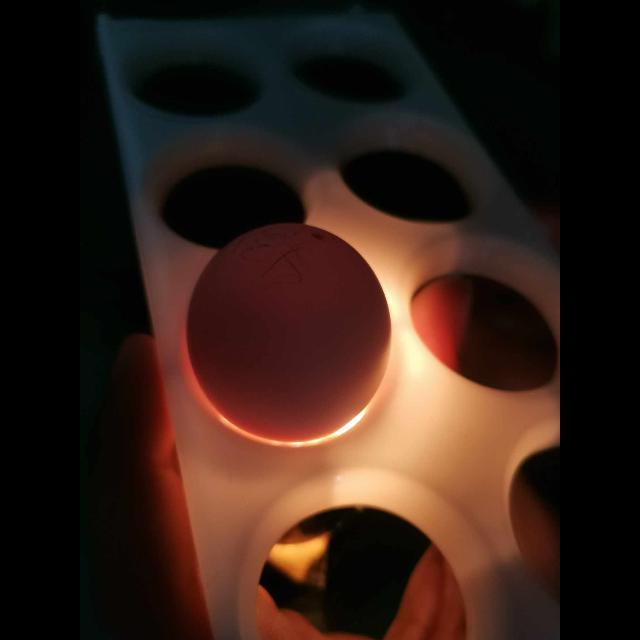Fertile: (190, 221, 394, 441)
